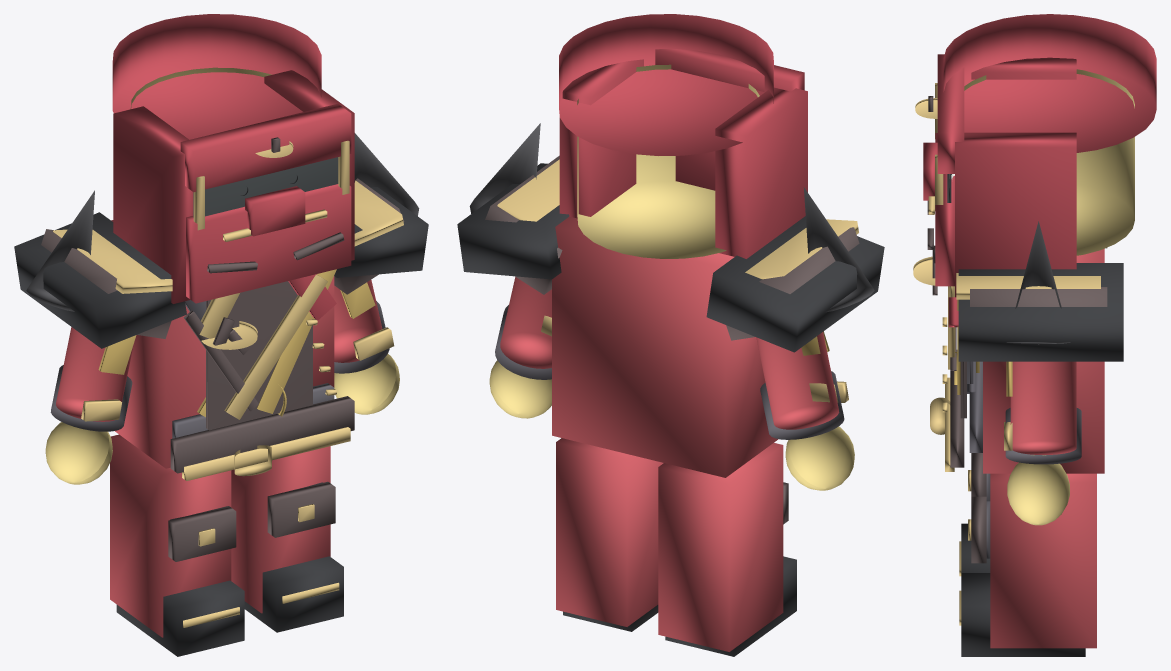
File: kai-tournament.glb
3 renders of one model, left to right at view 1: azimuth 30°, elevation 25°; view 2: azimuth 150°, elevation 25°; view 3: azimuth 270°, elevation 25°, orthographic. The views are drawn at different scales.
Visible parts, largest first — view 1: remasterHoodCrown, leftLegBody, remasterMaskLower, remasterHoodLeftFold, torsoBody, leftShoulderArmor, rightLegBody, remasterHoodForehead, remasterKimonoUnderlayer, remasterWaistWrap, leftBoot, rightBoot (+31 smaller); view 2: torsoBody, leftLegBody, remasterHoodCrown, rightLegBody, remasterHoodLeftFold, leftShoulderArmor, headCore, remasterHoodRightFold, rightShoulderArmor, leftArmBody, rightArmBody, leftHandAuthored (+12 smaller); view 3: remasterHoodCrown, remasterHoodRightFold, rightLegBody, rightShoulderArmor, headCore, torsoBody, rightArmBody, rightBoot, rightHandAuthored, remasterHoodForehead, remasterShoulderPlate1, remasterHoodLeftFold (+15 smaller).
Boxes of the visible parts, left/top/right/bottom form: remasterHoodCrown: left=112, top=14, right=321, bottom=139; leftLegBody: left=110, top=434, right=231, bottom=637; remasterMaskLower: left=186, top=184, right=351, bottom=303; remasterHoodLeftFold: left=113, top=106, right=193, bottom=303; torsoBody: left=111, top=220, right=334, bottom=468; leftShoulderArmor: left=14, top=212, right=186, bottom=348; rightLegBody: left=231, top=446, right=330, bottom=613; remasterHoodForehead: left=180, top=103, right=351, bottom=192; remasterKimonoUnderlayer: left=206, top=281, right=312, bottom=430; remasterWaistWrap: left=170, top=396, right=354, bottom=473; leftBoot: left=116, top=580, right=244, bottom=656; rightBoot: left=244, top=556, right=343, bottom=632; torsoBody: left=552, top=216, right=778, bottom=477; leftLegBody: left=658, top=443, right=783, bottom=651; remasterHoodCrown: left=559, top=14, right=773, bottom=155; rightLegBody: left=556, top=438, right=663, bottom=626; remasterHoodLeftFold: left=715, top=87, right=807, bottom=258; leftShoulderArmor: left=706, top=216, right=884, bottom=352; headCore: left=577, top=64, right=759, bottom=258; remasterHoodRightFold: left=559, top=59, right=643, bottom=218; rightShoulderArmor: left=457, top=163, right=569, bottom=279; leftArmBody: left=756, top=332, right=839, bottom=429; rightArmBody: left=500, top=277, right=551, bottom=368; leftHandAuthored: left=785, top=426, right=854, bottom=490; remasterHoodCrown: left=943, top=14, right=1156, bottom=152; remasterHoodRightFold: left=955, top=132, right=1076, bottom=297; rightLegBody: left=990, top=473, right=1096, bottom=648; rightShoulderArmor: left=958, top=263, right=1123, bottom=361; headCore: left=964, top=69, right=1134, bottom=255; torsoBody: left=983, top=248, right=1104, bottom=473; rightArmBody: left=1010, top=361, right=1076, bottom=454; rightBoot: left=961, top=573, right=1085, bottom=656; rightHandAuthored: left=1007, top=455, right=1069, bottom=525; remasterHoodForehead: left=937, top=54, right=964, bottom=173; remasterShoulderPlate1: left=970, top=287, right=1107, bottom=306; remasterHoodLeftFold: left=971, top=57, right=1076, bottom=79.
Size of the model in its own units: 1.78 by 2.42 by 0.959.
